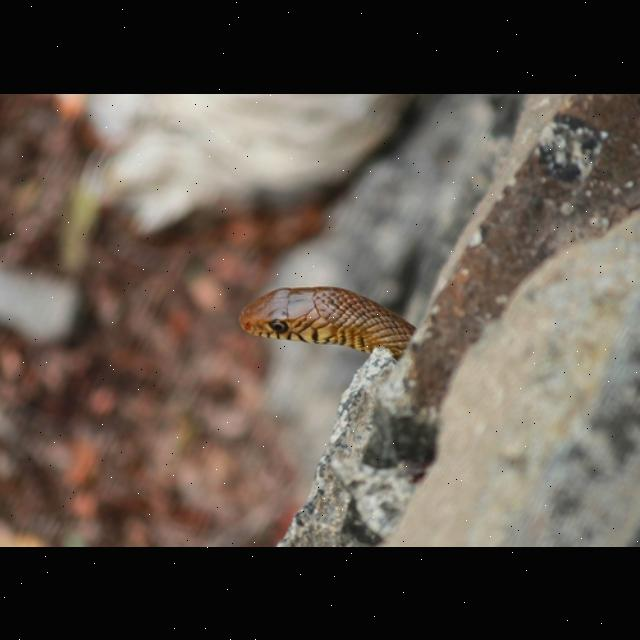snake: (232, 268, 440, 362)
